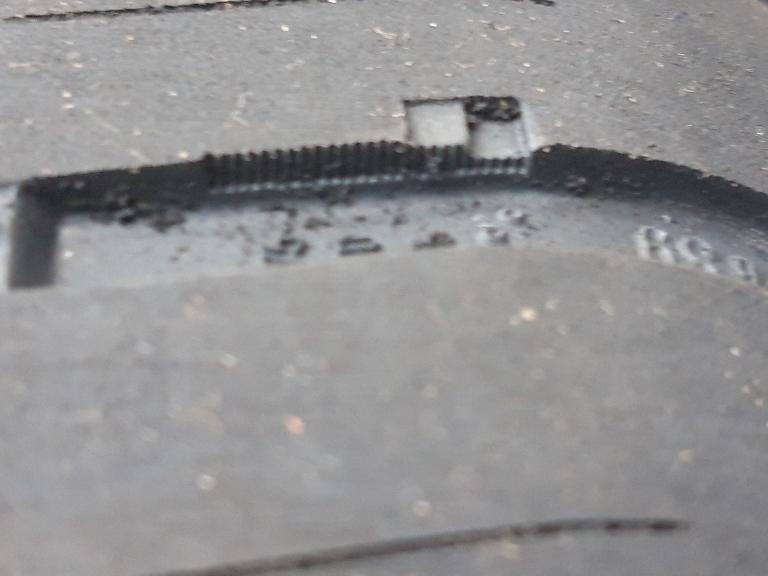temoin:25: (391, 86, 553, 197)
